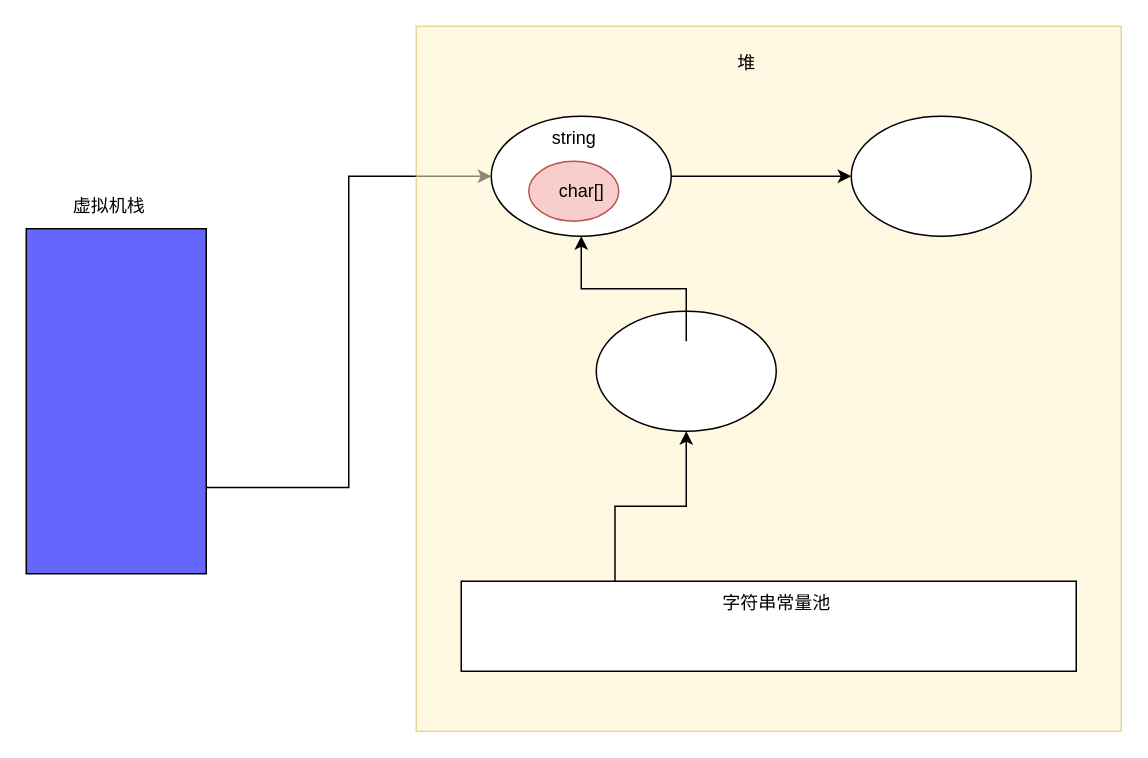
This 1148x758 diagram has some shape labels left out. Each missing label, with the centre of its shape:
hashtableEntry value: (x=685, y=370)
typearrayOopDesc "shuaige": (x=940, y=175)
